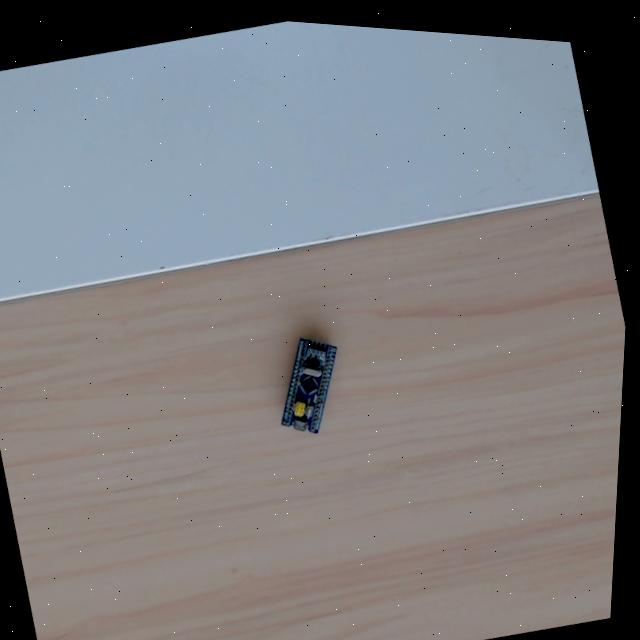STM32-Bluepill: (277, 336, 339, 436)
